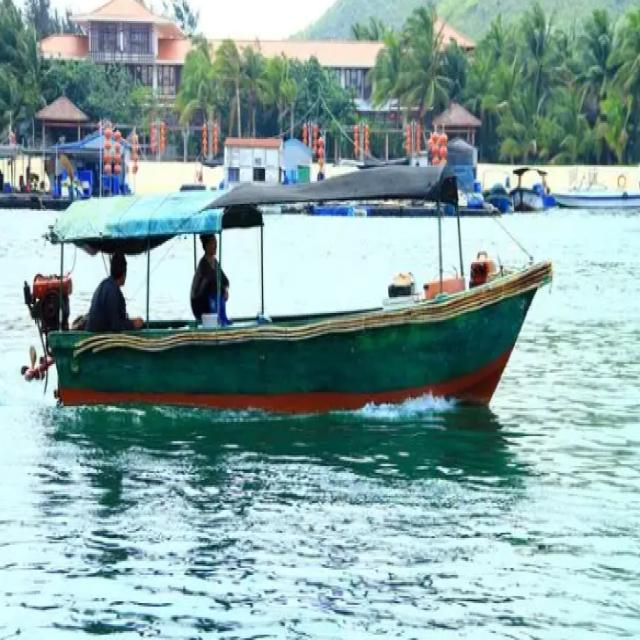fishing boat: (29, 160, 554, 416)
